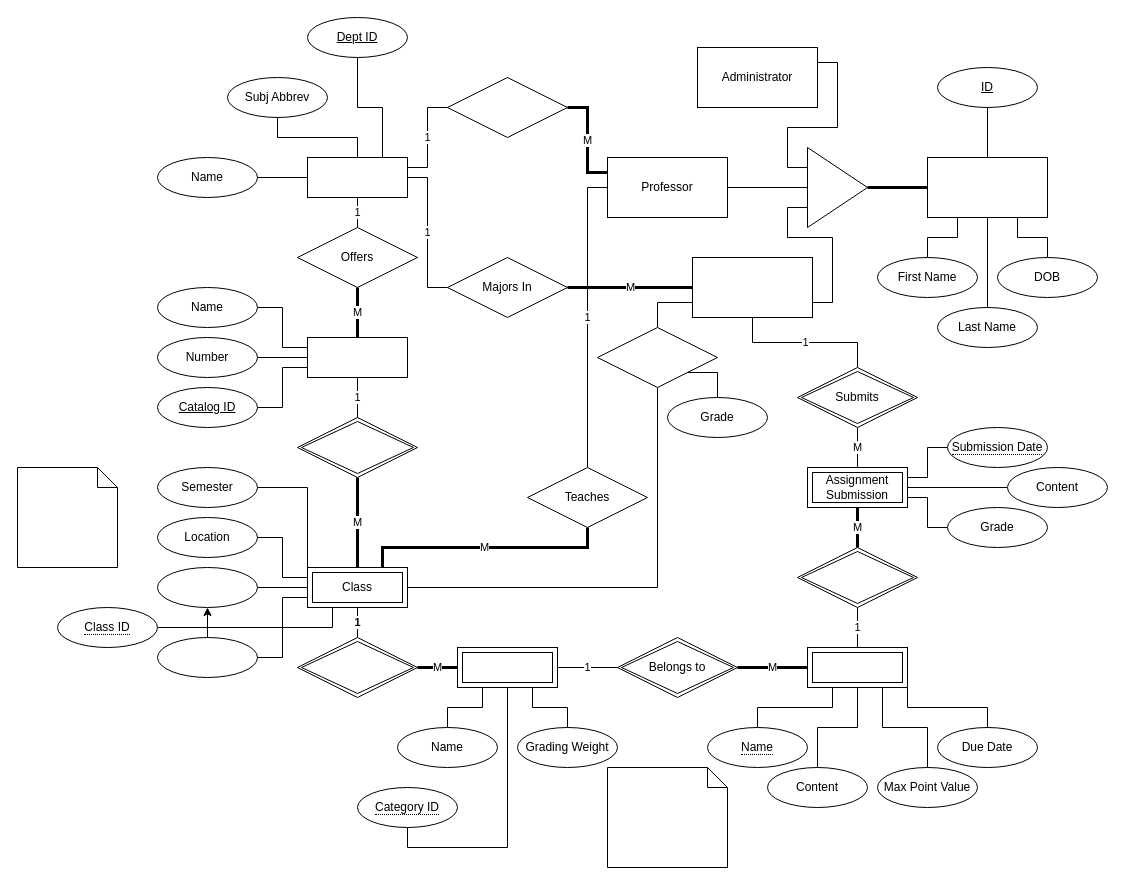
Some shapes in this 1125 by 885 pixel diagram are drawn without their labels. The centre of each missing label's shape, as x and y in pixels:
"Assignment" belongs at (857,667).
"Assignment Category" belongs at (507,667).
"Choosing not to allow duplicate Assignment names in Categories" belongs at (667,817).
"Course" belongs at (357,357).
"Department" belongs at (357,177).
"Employed By" belongs at (507,107).
"End Time" belongs at (207,657).
"Enrolls In" belongs at (657,357).
"Is-a" belongs at (837,187).
"Offered as" belongs at (357,447).
"Semester is XXXX year + Spring/Fall/ Summer" belongs at (67,517).
"Start Time" belongs at (207,587).
"Student" belongs at (752,287).
"Submission Of" belongs at (857,577).
"User" belongs at (987,187).
"Uses" belongs at (357,667).
